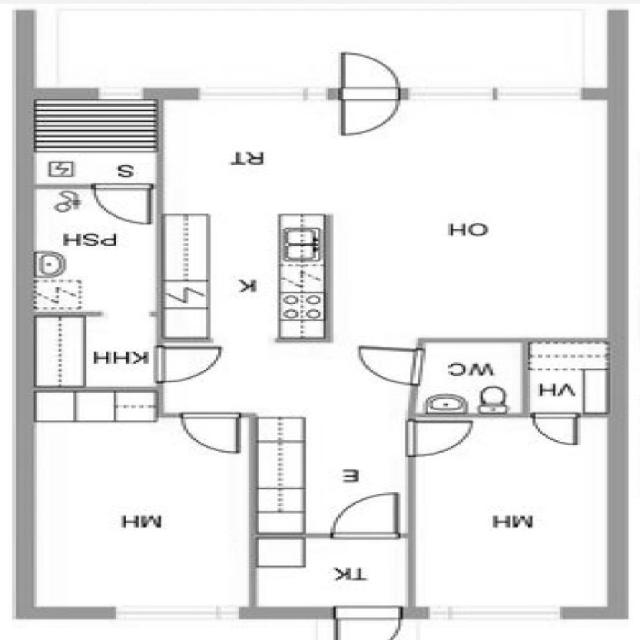door: (329, 48, 404, 139), (325, 490, 405, 543), (146, 340, 226, 387), (352, 342, 429, 389), (174, 409, 247, 457), (88, 180, 154, 227), (402, 418, 475, 460), (323, 605, 406, 640), (527, 411, 582, 449)
window: (339, 608, 593, 639), (401, 79, 602, 106), (182, 81, 338, 106), (436, 603, 572, 623), (110, 603, 238, 623), (399, 81, 511, 102), (83, 80, 154, 102)
zone: (332, 92, 618, 348), (23, 393, 258, 615), (154, 85, 334, 350), (408, 408, 612, 614), (25, 186, 160, 313), (248, 534, 414, 618), (28, 93, 161, 186), (414, 342, 524, 416), (526, 341, 613, 414)
